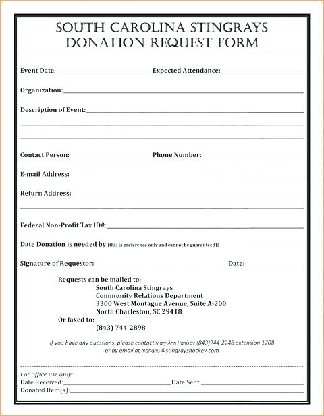textline: (18, 116, 304, 128), (19, 128, 305, 140), (19, 198, 305, 210), (61, 81, 305, 95), (84, 101, 305, 115), (67, 166, 304, 179), (69, 186, 304, 198), (105, 216, 305, 230), (68, 386, 304, 395), (94, 256, 229, 268), (200, 147, 304, 160), (200, 376, 305, 388), (56, 64, 154, 76), (218, 236, 305, 249), (62, 376, 172, 386), (69, 150, 154, 160), (220, 65, 303, 74), (243, 256, 305, 268)
